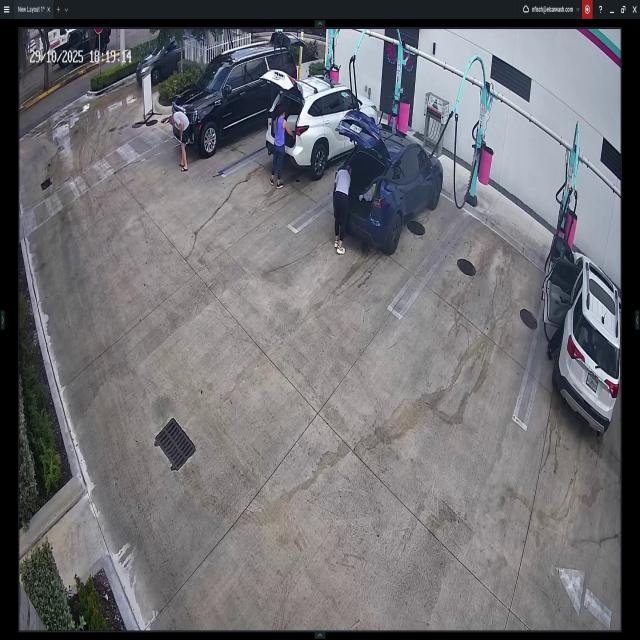Car: (334, 116, 442, 254), (171, 45, 297, 155), (550, 236, 620, 434), (263, 68, 377, 177), (134, 31, 199, 84)
